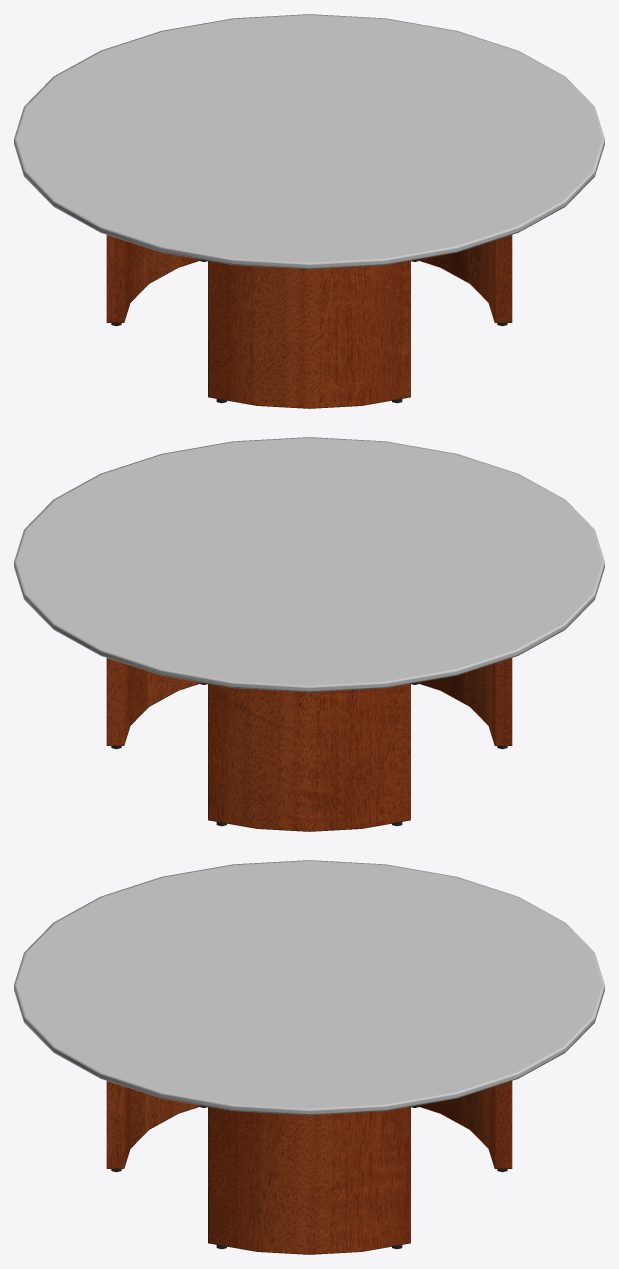
Rendered from CoffeeTable.glb.
The picture shows the model from 3 angles, top to bottom: view 1: azimuth 30°, elevation 25°; view 2: azimuth 150°, elevation 25°; view 3: azimuth 270°, elevation 25°; orthographic projection.
Parts seen in each view (by area): view 1: 10222_Coffee_Table_v1_max2010vb; view 2: 10222_Coffee_Table_v1_max2010vb; view 3: 10222_Coffee_Table_v1_max2010vb.
Boxes of the visible parts, <box> form: 10222_Coffee_Table_v1_max2010vb: <box>14,14,604,408</box>; 10222_Coffee_Table_v1_max2010vb: <box>14,437,604,831</box>; 10222_Coffee_Table_v1_max2010vb: <box>14,860,604,1254</box>.
Bounding box in the file's own units: 4.09 × 1.44 × 4.09.
Materials: 2 (1 with a texture image).
